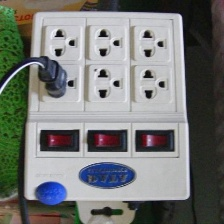three_eye_plug: (17, 9, 192, 209)
